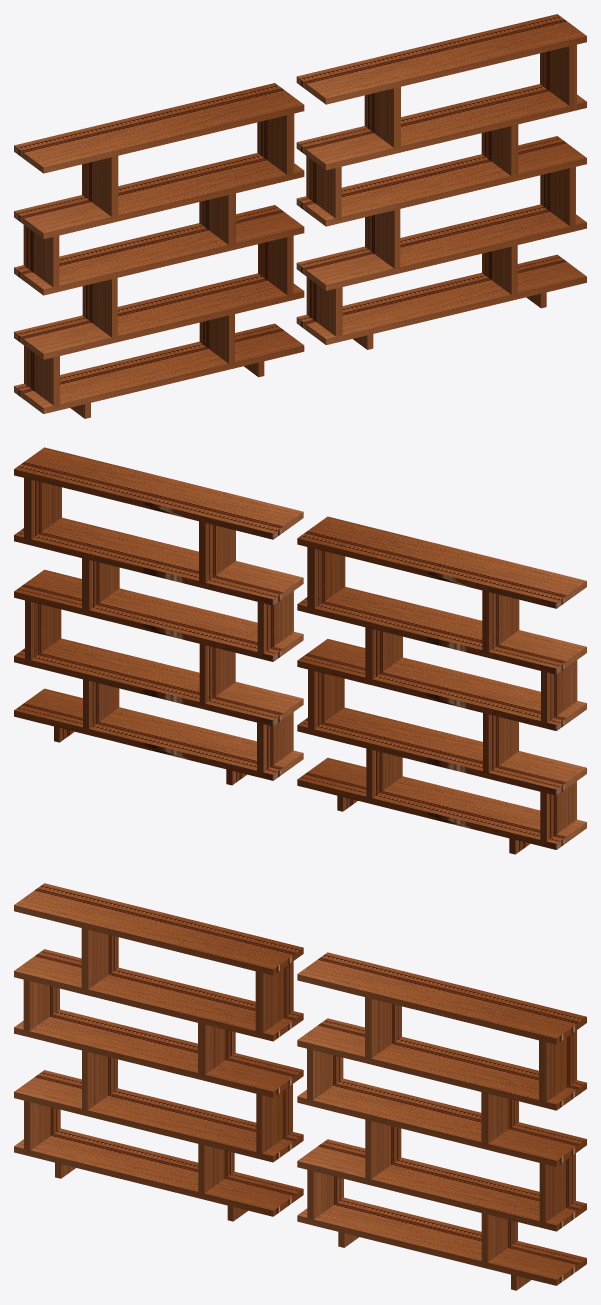
The model's file is estantes-mdl.glb.
The picture shows the model from 3 angles, top to bottom: view 1: azimuth 30°, elevation 25°; view 2: azimuth 150°, elevation 25°; view 3: azimuth 330°, elevation 25°; orthographic projection.
Visible parts, largest first — view 1: Cube.001, Cube; view 2: Cube.001, Cube; view 3: Cube.001, Cube.
Part boxes in pixels (box(x1,y1,x2,y2)): Cube.001: box(14, 83, 304, 418); Cube: box(296, 14, 586, 349); Cube.001: box(297, 516, 586, 854); Cube: box(14, 447, 303, 785); Cube.001: box(14, 883, 303, 1221); Cube: box(297, 952, 586, 1290).
Size of the model in its own units: 4.58 by 2.11 by 0.4552.
1 material, 1 textured.
